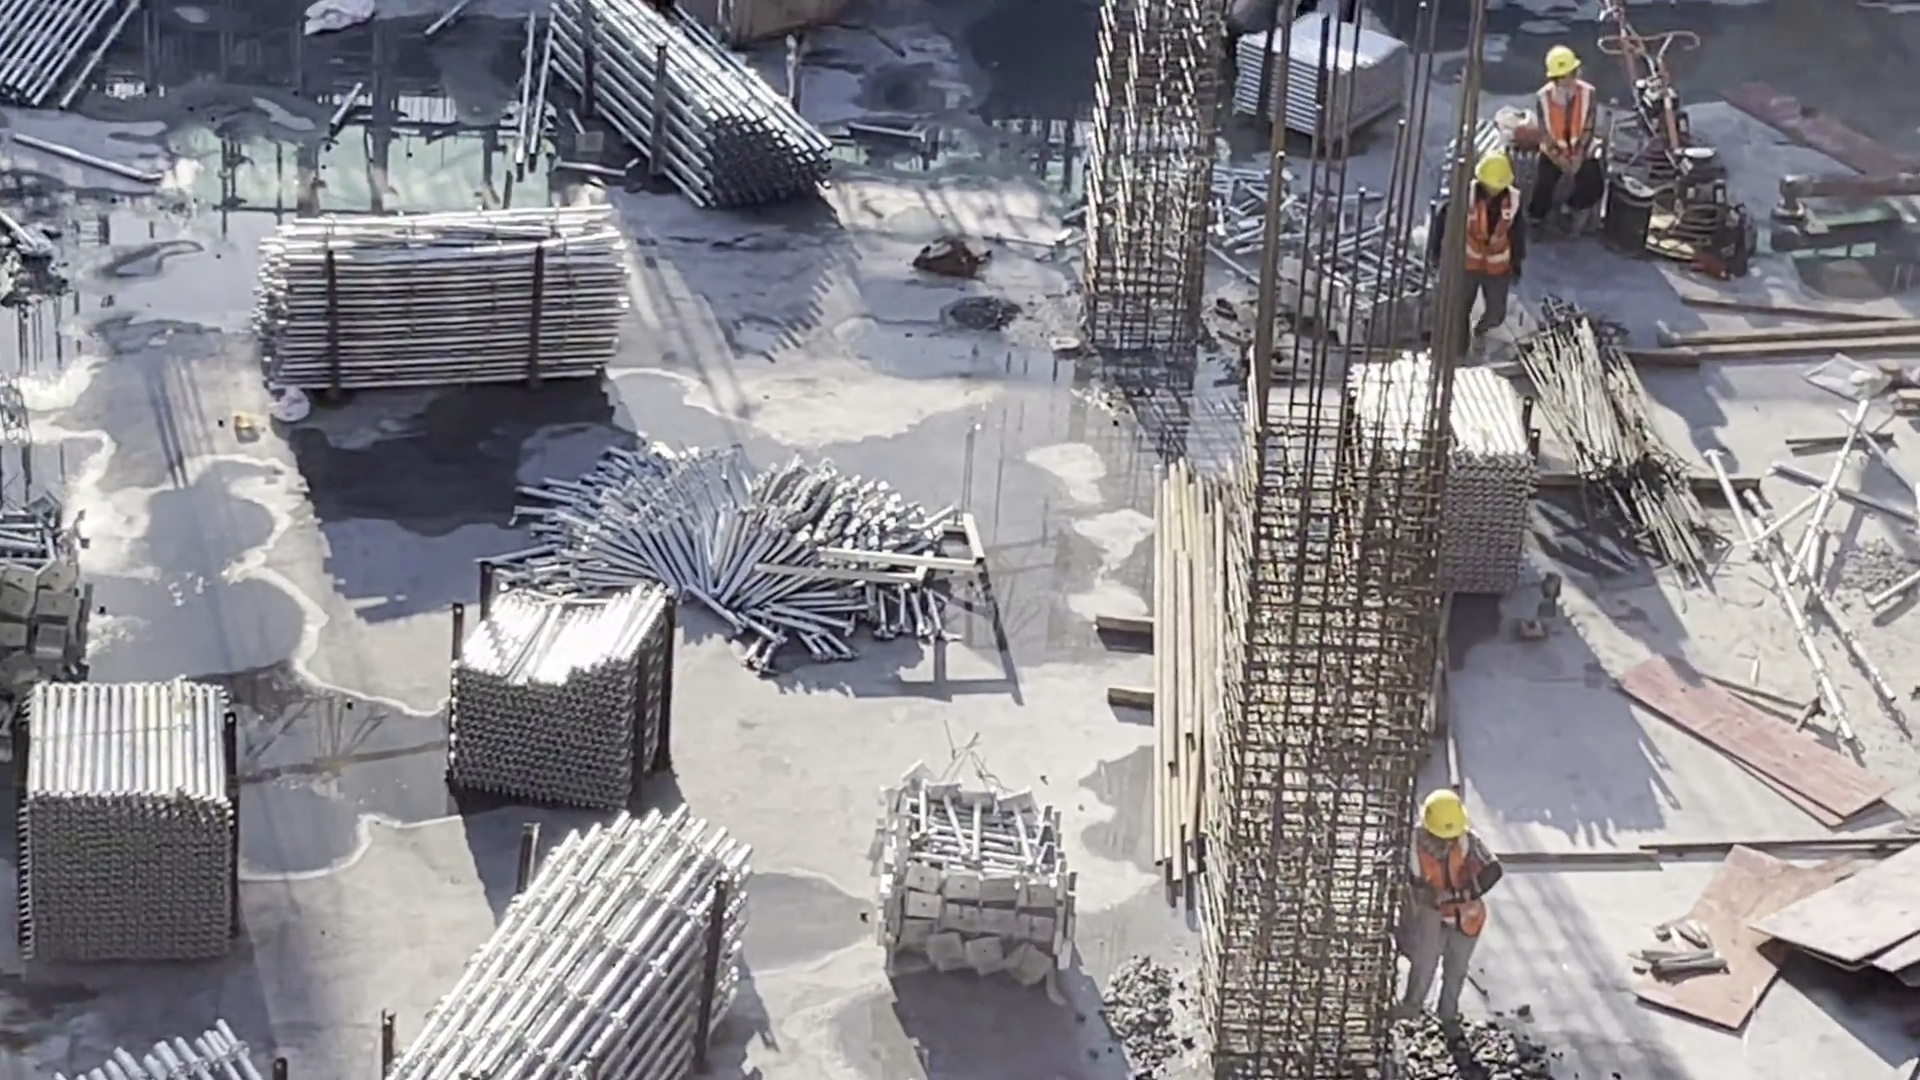board: (1786, 835, 1920, 979)
helmet: (1425, 795, 1477, 835), (1474, 157, 1512, 191), (1544, 53, 1577, 83)
person: (1396, 789, 1497, 1030), (1521, 49, 1610, 243), (1451, 153, 1529, 365)
scaffold: (382, 808, 742, 1080), (1, 643, 286, 975), (543, 433, 930, 671), (243, 209, 667, 407), (402, 573, 696, 804), (544, 1, 838, 221), (1320, 343, 1558, 604), (875, 766, 1090, 997), (1215, 160, 1438, 345), (1, 474, 166, 646), (1257, 1, 1420, 157), (1, 1005, 328, 1075), (1, 6, 137, 116)
vest: (1532, 70, 1599, 168), (1417, 836, 1486, 931), (1456, 187, 1522, 270)
